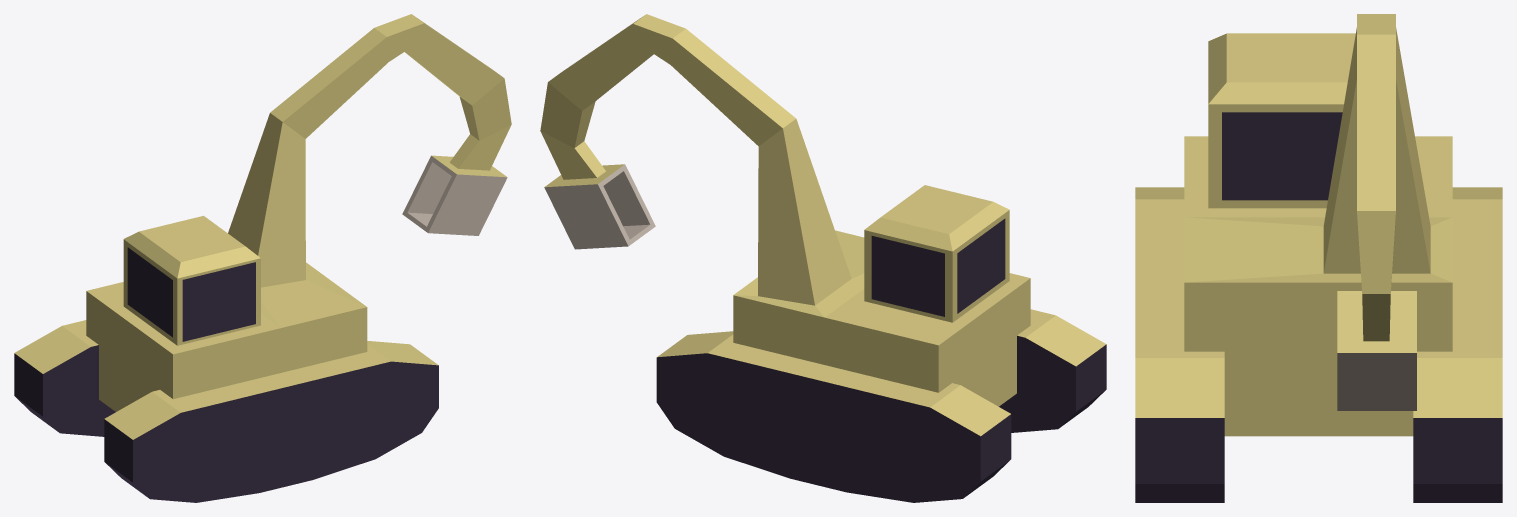
Rendered from Digger.fbx.
3 views of the same model, side by side, from view 1: azimuth 30°, elevation 25°; view 2: azimuth 150°, elevation 25°; view 3: azimuth 270°, elevation 25° (orthographic). The views are drawn at different scales.
Parts seen in each view (by area): view 1: Digger; view 2: Digger; view 3: Digger.
Part boxes in pixels (x1,y1,x2,y2): Digger: (14,14,511,502); Digger: (540,14,1106,502); Digger: (1135,14,1502,502).
Size of the model in its own units: 56.59 by 43.02 by 25.76.
